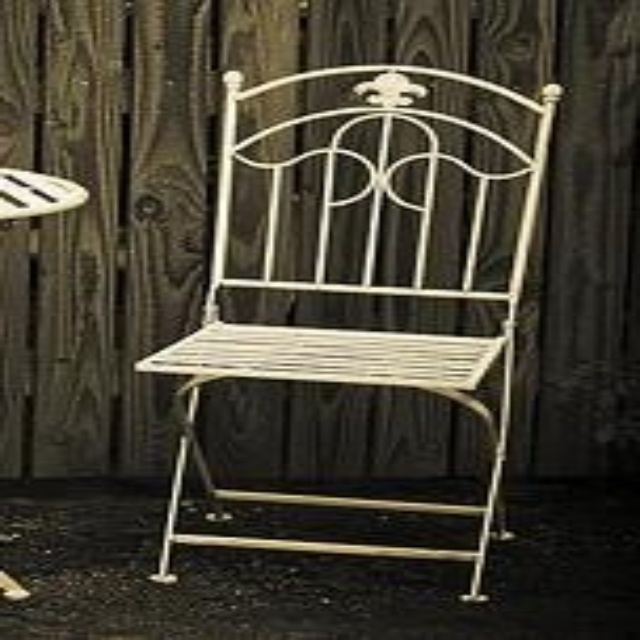obstacle: (135, 66, 560, 600)
